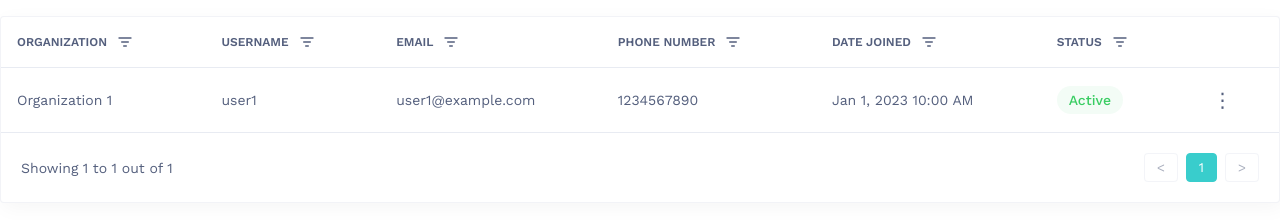
Test: UsersTable › hides dropdown menu when clicking outside
The image size is (1280, 220).
Note: Open dropdown
Click the button "⋮".
click(1222, 100)  # box [1202,83,1242,117]
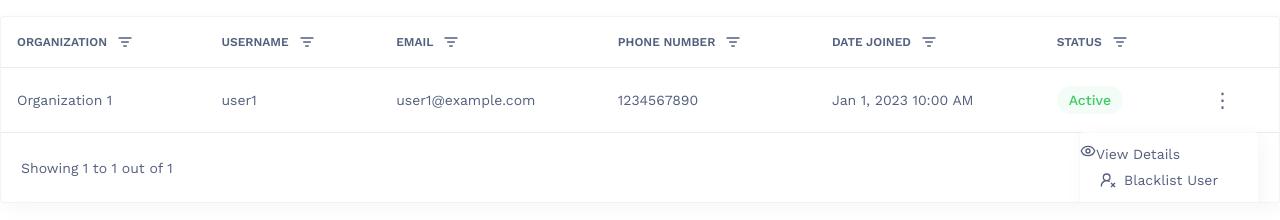
Note: Click outside
Click the element that starts with "ORGANIZATION".
click(640, 110)  # box [0,16,1279,203]
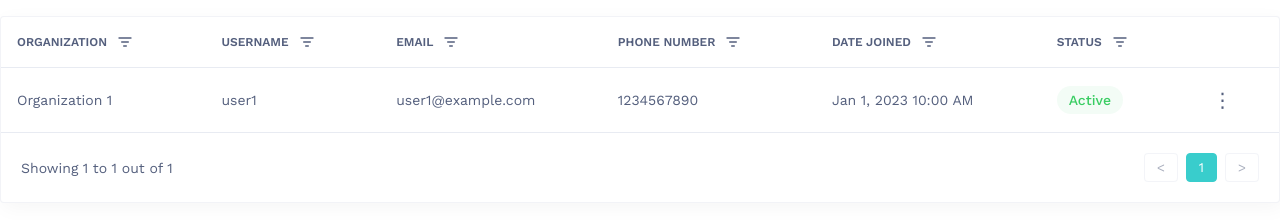
Now the link "View Details" is gone
